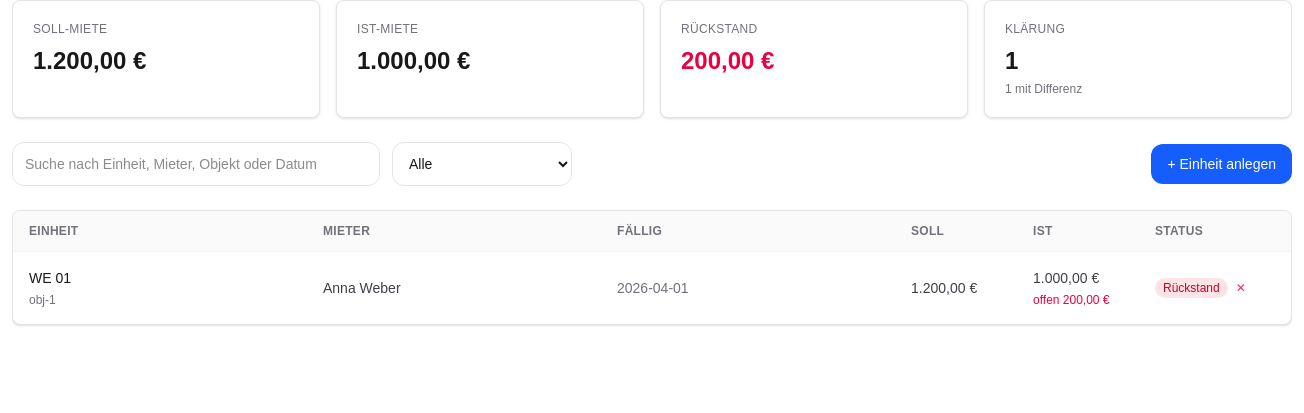
MietuebersichtModule › shows an error when deleting a unit fails
This screenshot has width=1304, height=413.
Check: the text "WE 01" is shown, box x1=29 y1=270 x2=71 y2=286
Click the button named "WE 01 löschen" at (1241, 288), box x1=1236 y1=280 x2=1246 y2=296
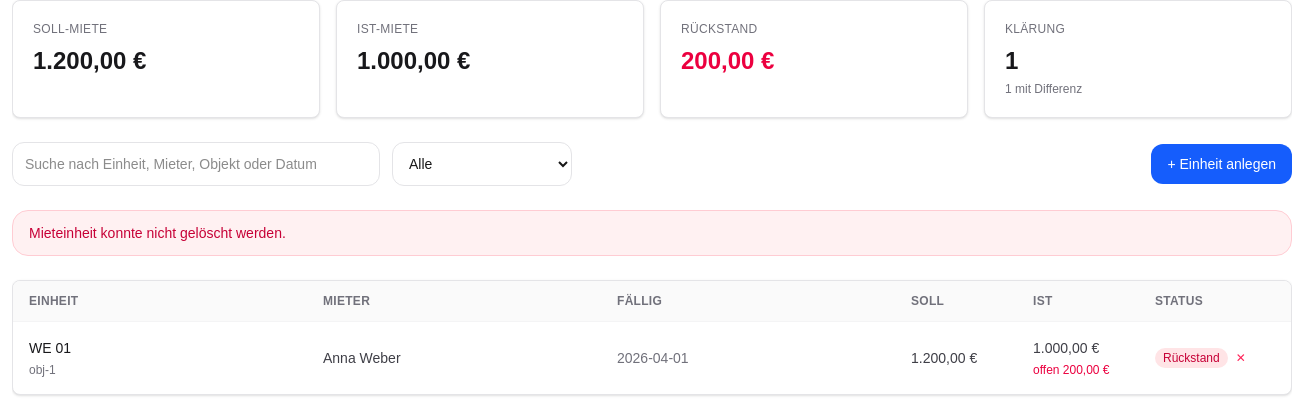
Check: the text "WE 01" is shown, box x1=29 y1=340 x2=71 y2=356
Check: the text "Mieteinheit konnte nicht gelöscht werden." is shown, box x1=12 y1=210 x2=1292 y2=256
